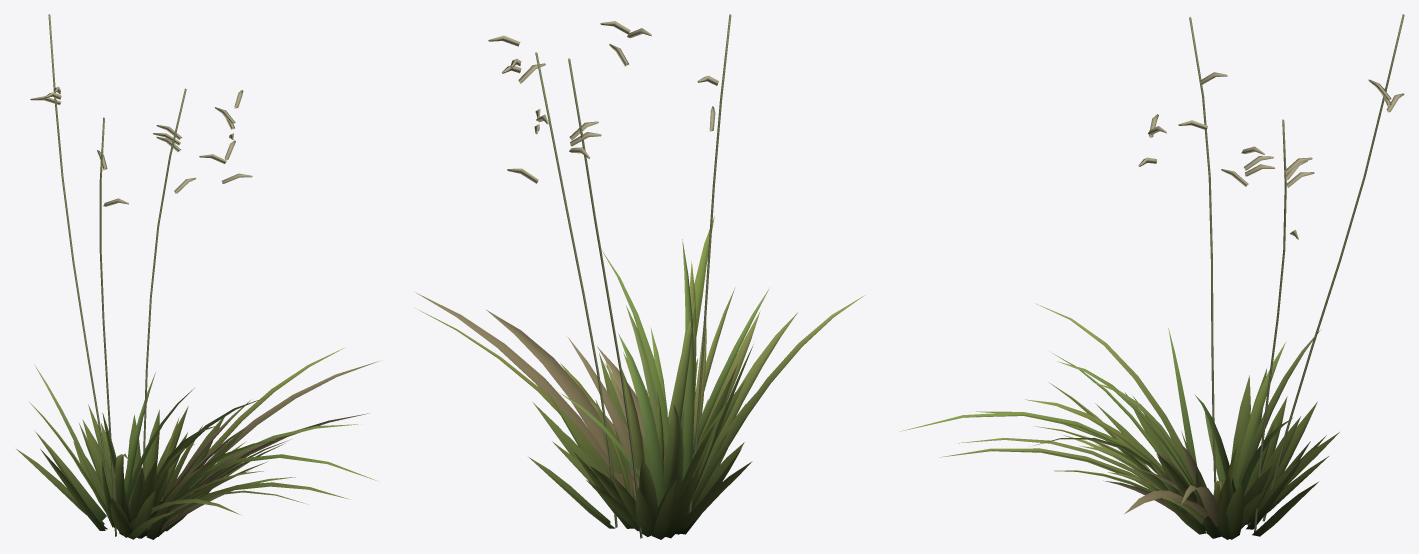
The model's file is eco_grass_meadow_LOD1.glb.
3 views of the same model, side by side, from view 1: azimuth 30°, elevation 25°; view 2: azimuth 150°, elevation 25°; view 3: azimuth 270°, elevation 25° (orthographic). The views are drawn at different scales.
Parts seen in each view (by area): view 1: eco_grass_meadow_LOD1; view 2: eco_grass_meadow_LOD1; view 3: eco_grass_meadow_LOD1.
Part boxes in pixels (x1=…): eco_grass_meadow_LOD1: x1=16, y1=14, x2=379, y2=539; eco_grass_meadow_LOD1: x1=415, y1=14, x2=864, y2=539; eco_grass_meadow_LOD1: x1=900, y1=14, x2=1404, y2=539.
Bounding box in the file's own units: 0.5967 × 0.7908 × 0.7196.
